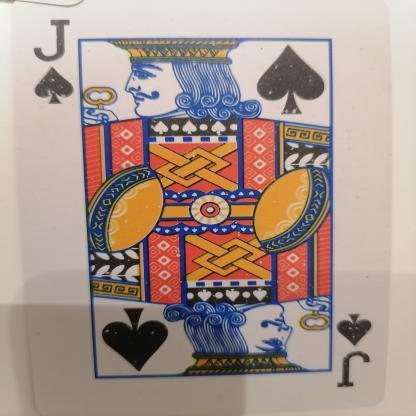JS: (320, 302, 388, 408), (28, 10, 87, 108)
